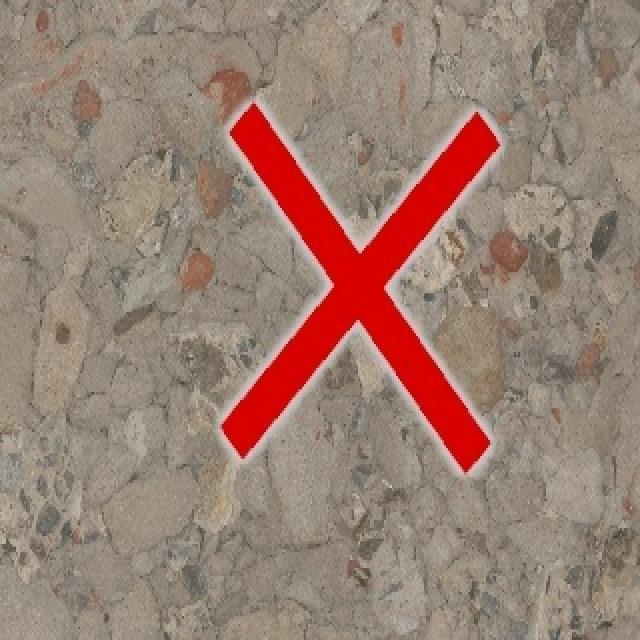x_marker: (221, 102, 499, 470)
